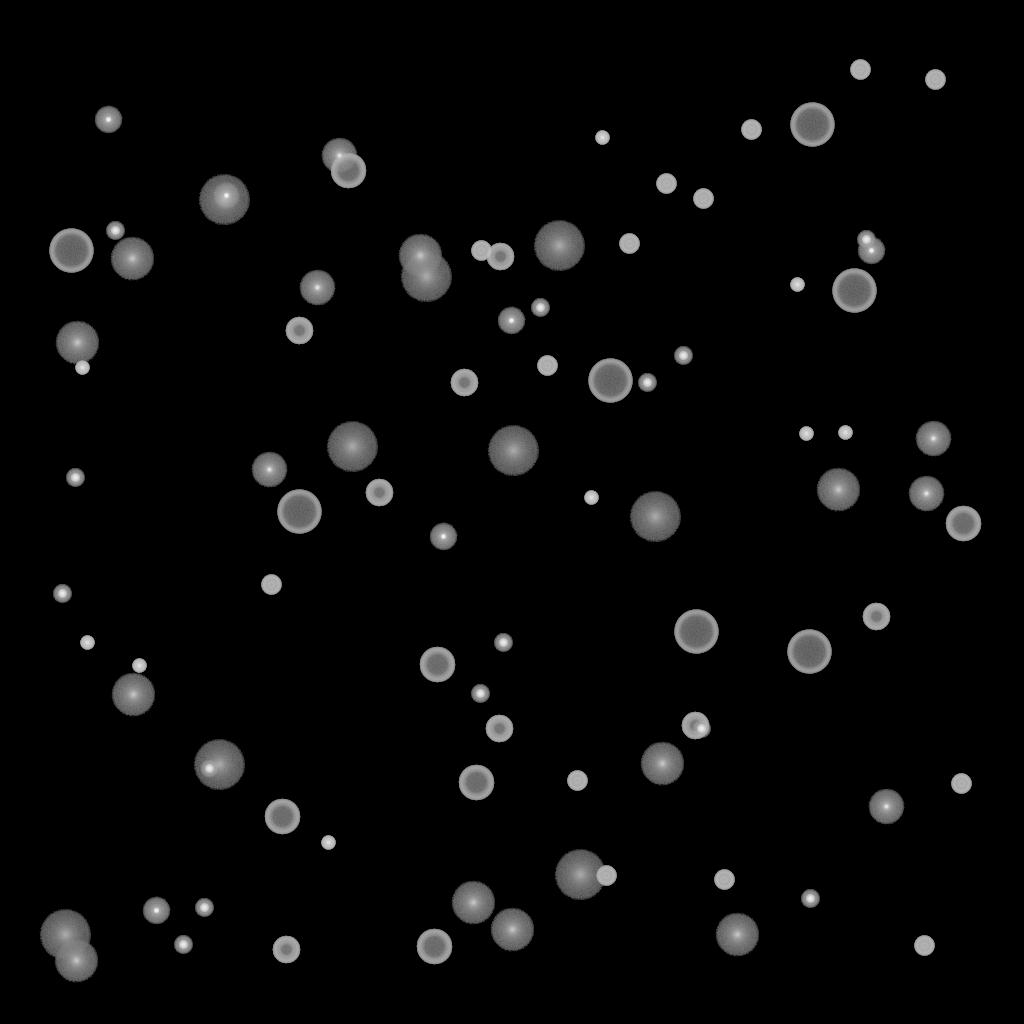depth:-10: (429, 523, 457, 551), (142, 897, 170, 925), (94, 106, 122, 134), (497, 307, 525, 335), (857, 237, 885, 265), (212, 182, 240, 210)
depth:-20: (53, 585, 71, 603), (106, 222, 124, 240), (494, 634, 512, 652), (195, 899, 213, 917), (174, 936, 192, 954), (692, 720, 710, 738), (200, 760, 218, 778), (857, 231, 875, 249), (531, 299, 549, 317), (471, 685, 489, 703), (638, 374, 656, 392), (674, 347, 692, 365), (801, 890, 819, 908), (66, 469, 84, 487)
depth:-30: (595, 131, 609, 145), (790, 278, 804, 292), (75, 361, 89, 375), (132, 659, 146, 673), (80, 636, 94, 650), (321, 836, 335, 850), (799, 427, 813, 441), (584, 491, 598, 505), (838, 426, 852, 440)
depth:-40: (850, 60, 870, 80), (537, 356, 557, 376), (741, 120, 761, 140), (914, 936, 934, 956), (714, 870, 734, 890), (925, 70, 945, 90), (261, 575, 281, 595), (619, 234, 639, 254), (567, 771, 587, 791), (693, 189, 713, 209), (596, 866, 616, 886), (471, 241, 491, 261), (951, 774, 971, 794), (656, 174, 676, 194)
depth:-50: (486, 243, 514, 271), (681, 712, 709, 740), (365, 479, 393, 507), (862, 603, 890, 631), (285, 317, 313, 345), (485, 715, 513, 743), (272, 936, 300, 964), (450, 369, 478, 397)
depth:-60: (458, 765, 494, 801), (330, 153, 366, 189), (264, 799, 300, 835), (945, 506, 981, 542), (416, 929, 452, 965), (419, 647, 455, 683)
depth:-70: (790, 103, 834, 147), (277, 490, 321, 534), (832, 269, 876, 313), (674, 610, 718, 654), (49, 229, 93, 273), (787, 630, 831, 674), (588, 359, 632, 403)
depth:0: (908, 476, 944, 512), (251, 452, 287, 488), (868, 789, 904, 825), (321, 138, 357, 174), (299, 270, 335, 306), (915, 421, 951, 457)
depth:10: (54, 939, 98, 983), (715, 913, 759, 957), (55, 321, 99, 365), (451, 881, 495, 925), (816, 468, 860, 512), (490, 908, 534, 952), (111, 673, 155, 717), (640, 742, 684, 786), (398, 234, 442, 278), (110, 237, 154, 281)
depth:20: (39, 910, 91, 960), (193, 740, 245, 790), (326, 422, 378, 472), (400, 252, 452, 302), (533, 221, 585, 271), (554, 850, 606, 900), (198, 175, 250, 225), (487, 426, 539, 476), (629, 492, 681, 542)
